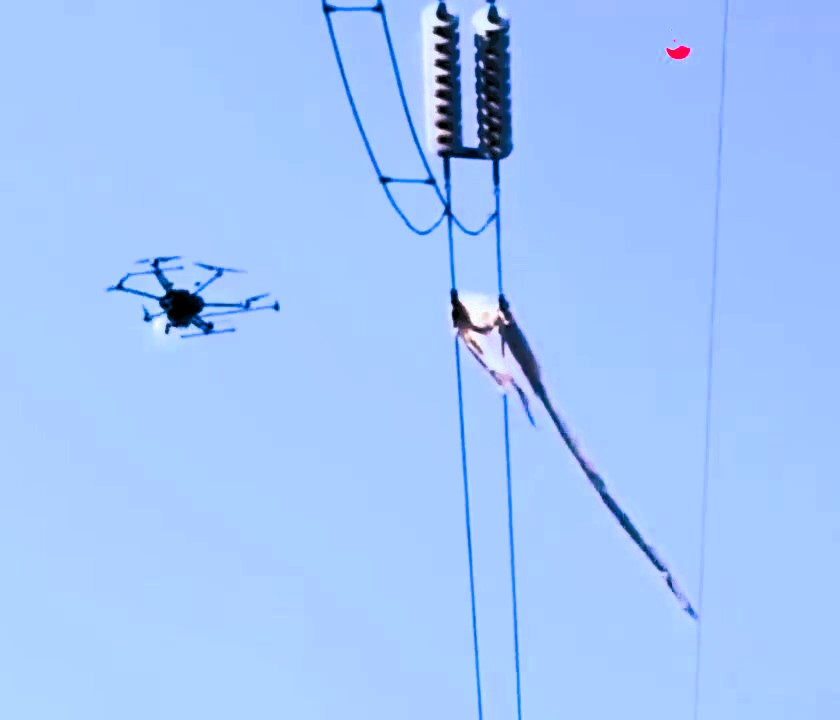wire foreign body: (440, 272, 670, 565)
